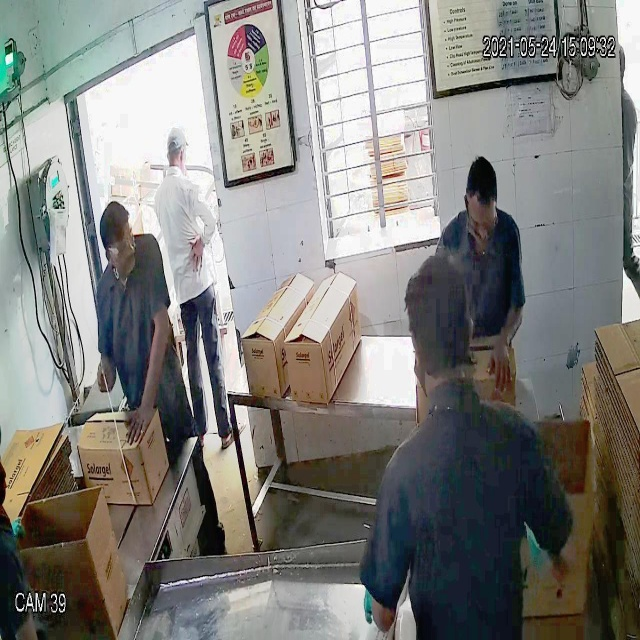Gafas: (99, 221, 144, 258)
